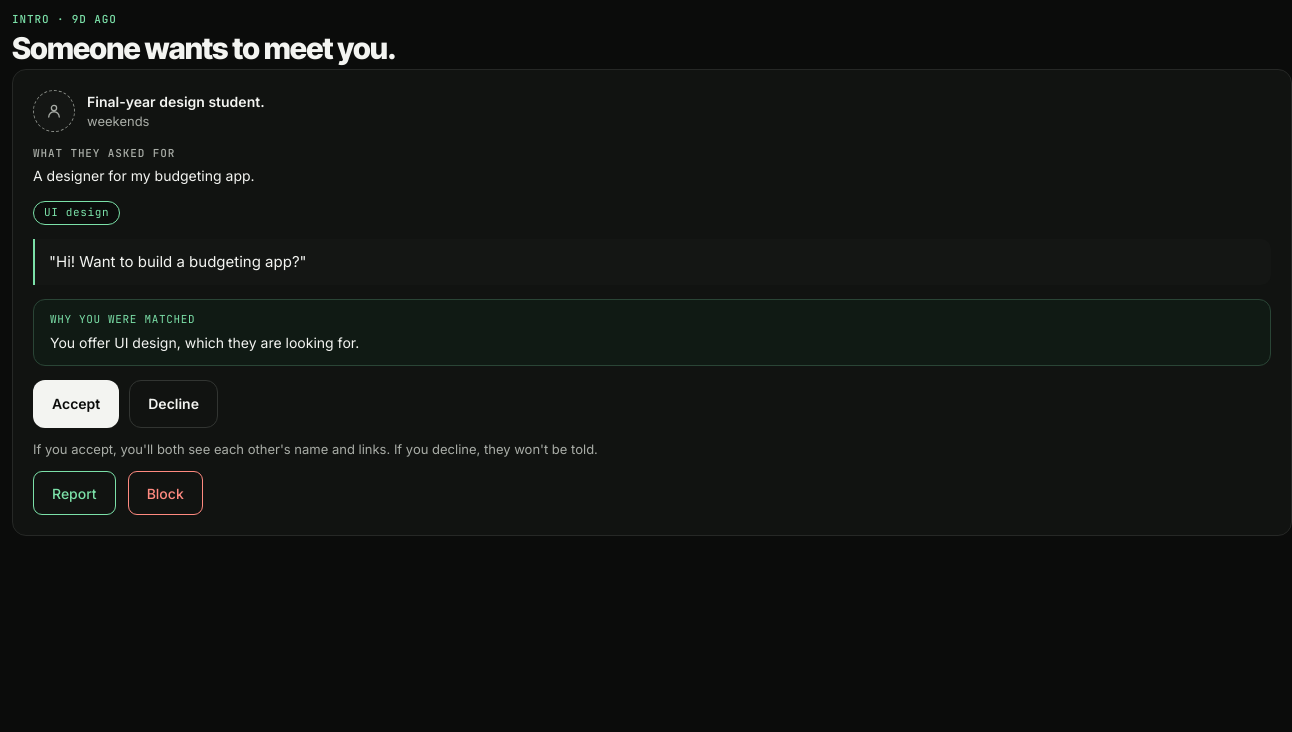
Test: IntroCard › declining says it stays private
Click the button "Decline" at point(174, 404), box x1=129 y1=380 x2=218 y2=428
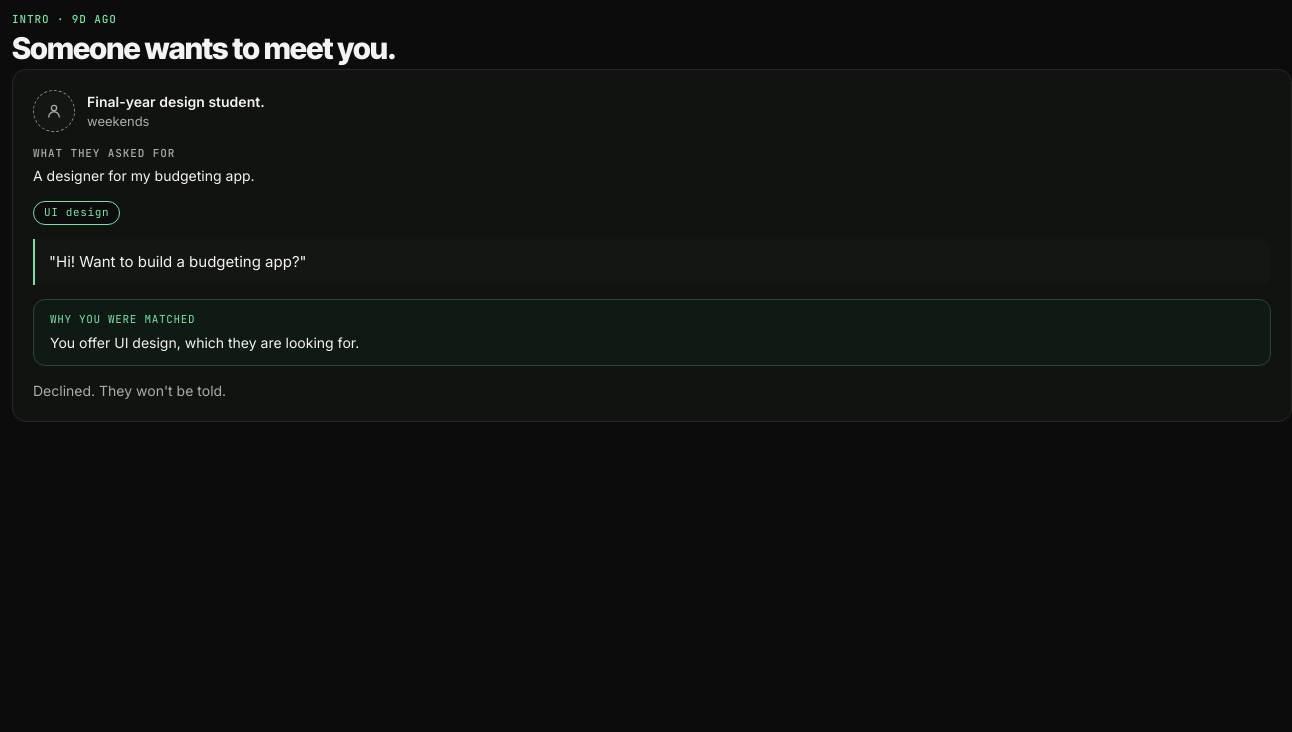
Expected: the text "Declined. They won't be told." is shown, x1=33 y1=382 x2=226 y2=399
